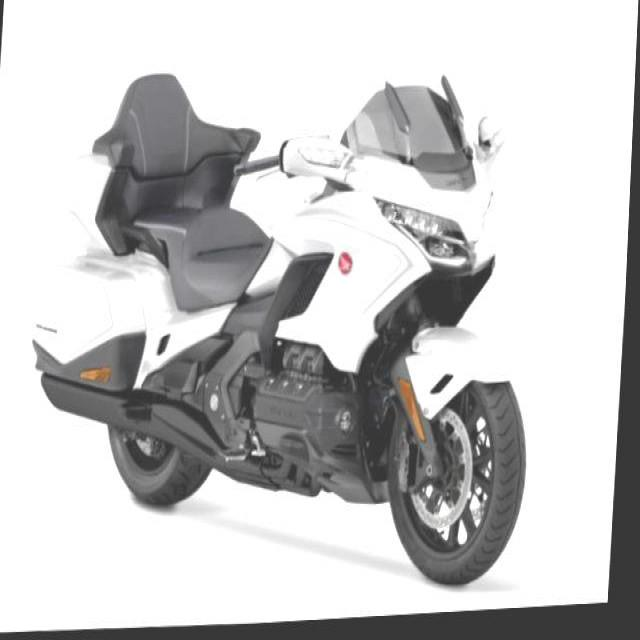Gold Wing: (19, 0, 556, 616)
